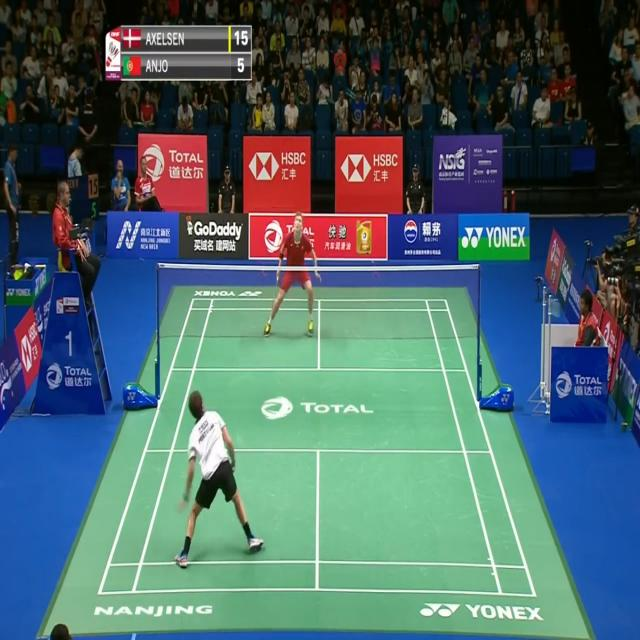Player1: (174, 388, 266, 575)
Player2: (260, 212, 324, 342)
